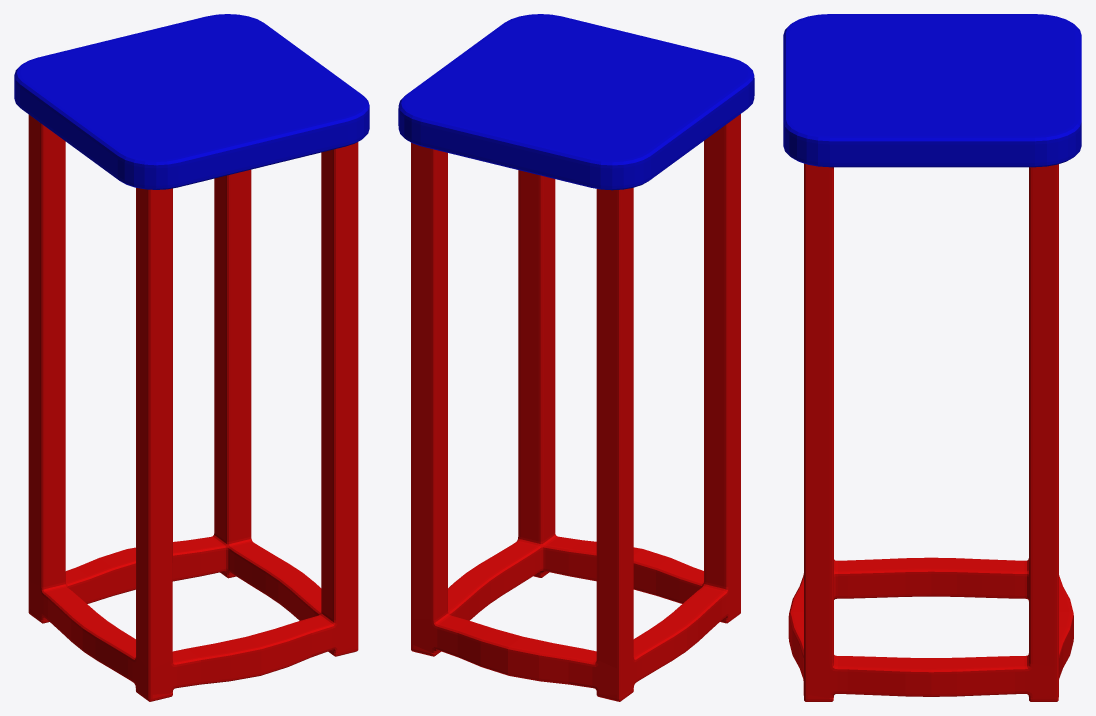
The model's file is mv_CouchTableD.fbx.
The picture shows the model from 3 angles, left to right: view 1: azimuth 30°, elevation 25°; view 2: azimuth 150°, elevation 25°; view 3: azimuth 270°, elevation 25°; orthographic projection. The views are drawn at different scales.
Parts seen in each view (by area): view 1: CouchTableD_LOD0; view 2: CouchTableD_LOD0; view 3: CouchTableD_LOD0.
Boxes of the visible parts, bbox=[...] form: CouchTableD_LOD0: bbox=[14, 14, 369, 701]; CouchTableD_LOD0: bbox=[398, 14, 754, 701]; CouchTableD_LOD0: bbox=[783, 14, 1081, 701].
Size of what is drawn, in the model's own units: 39.81 by 84.26 by 39.81.
